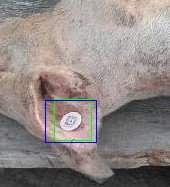text: (54, 99, 91, 140)
